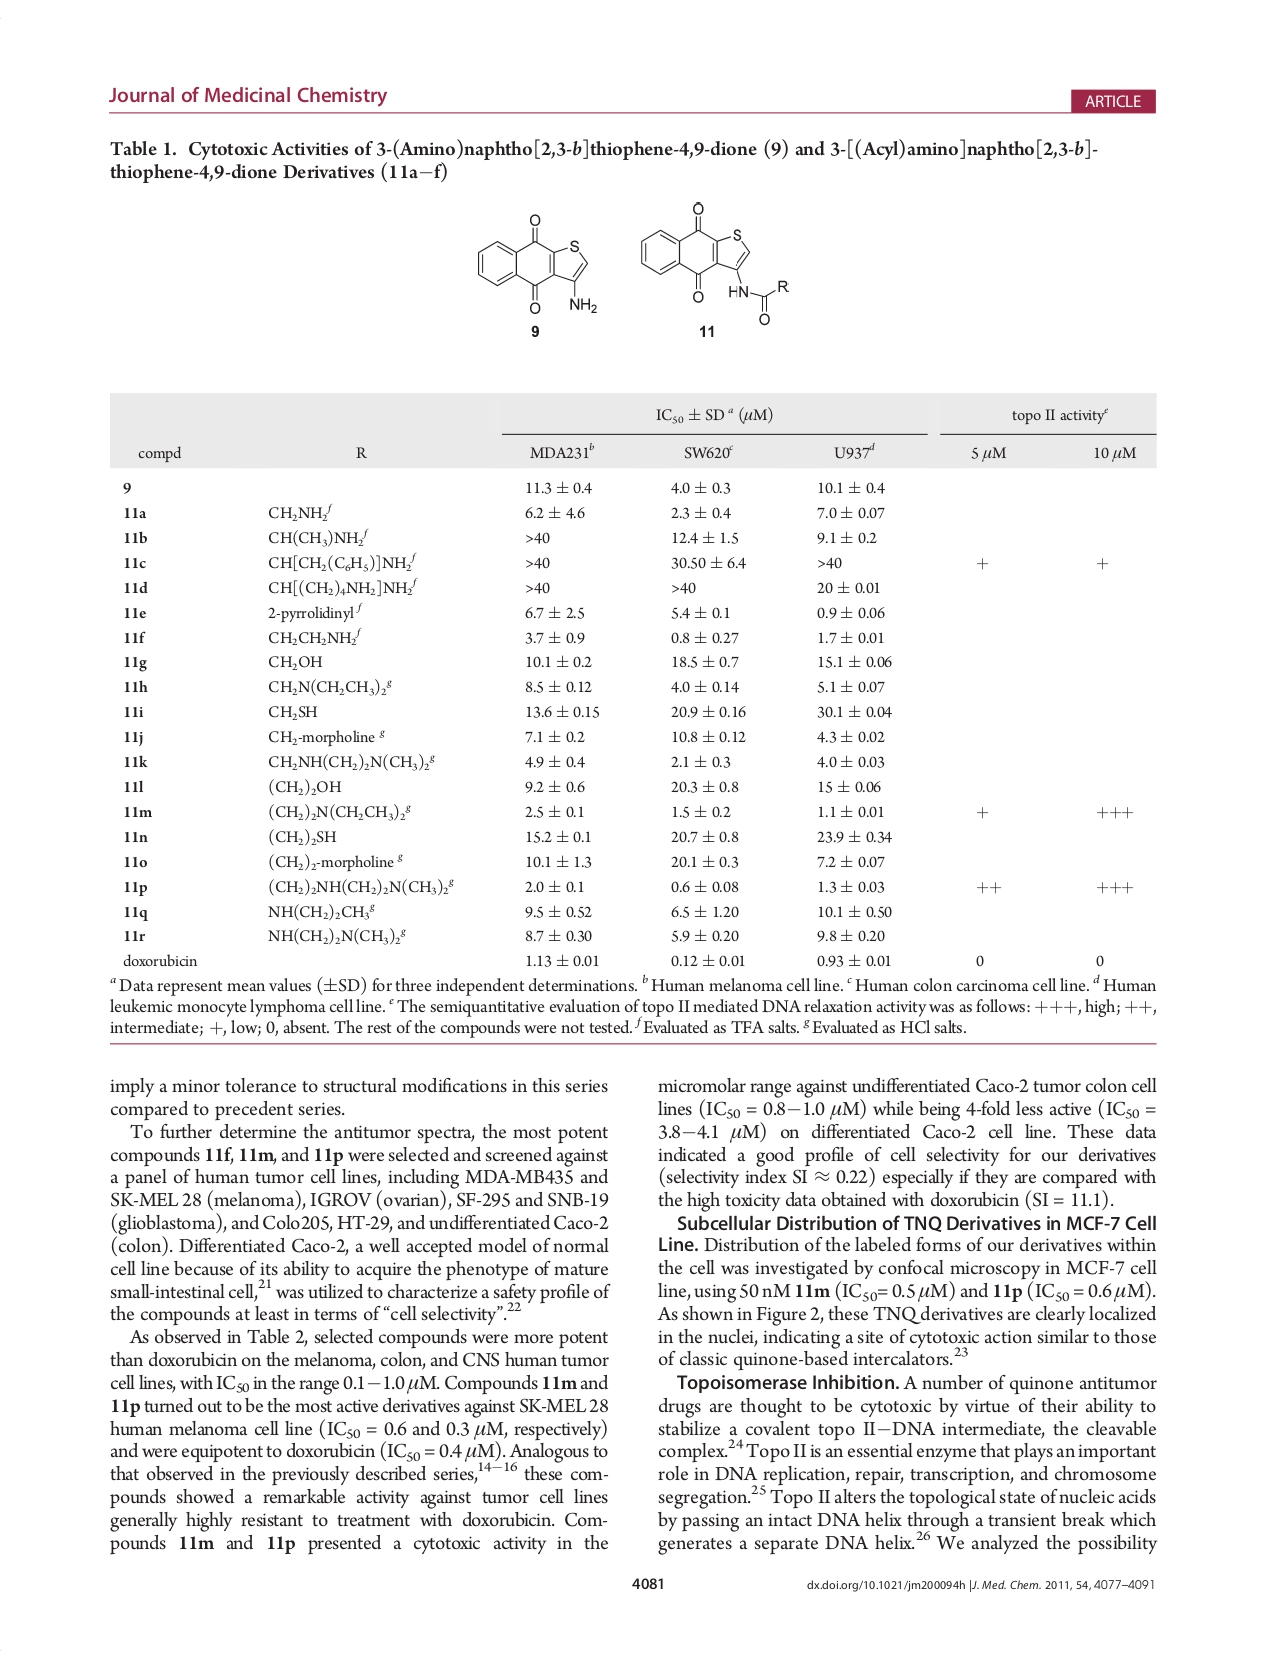exist_molecular: (637, 199, 793, 326), (473, 211, 601, 317)
